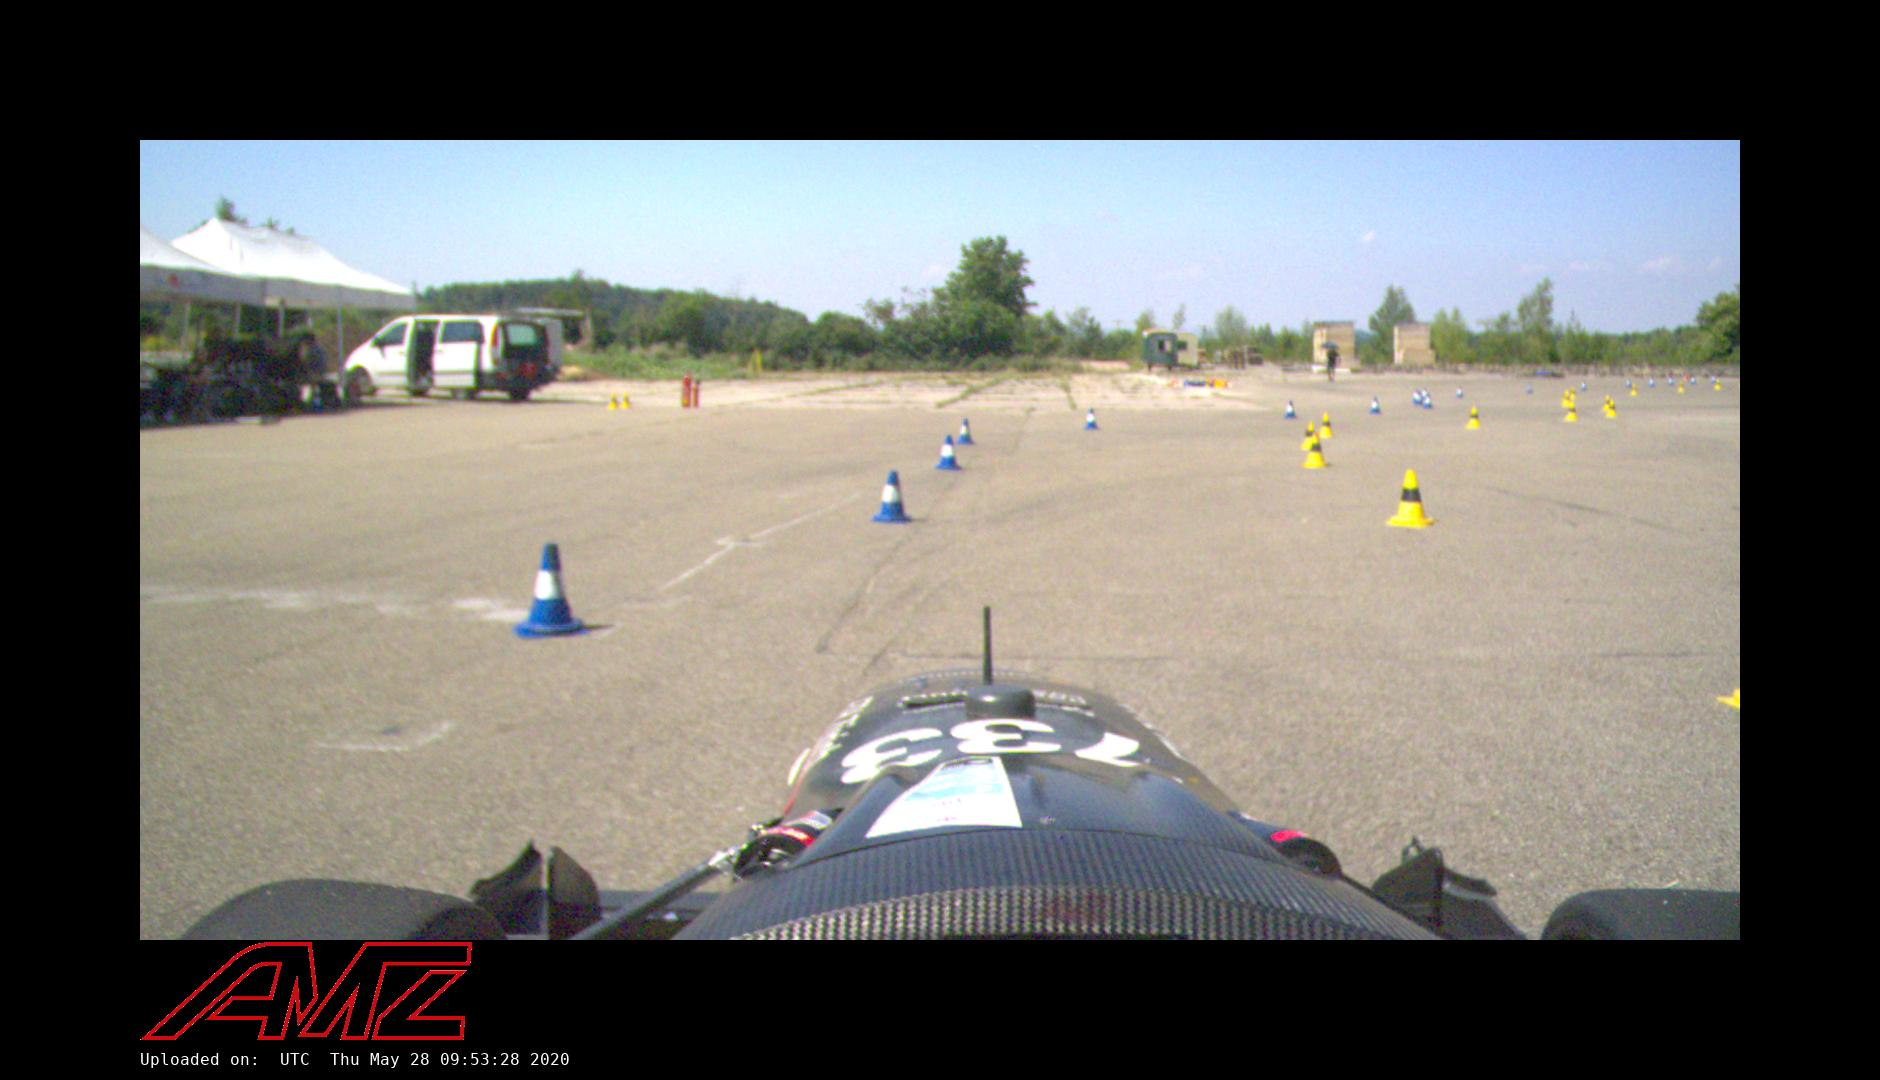blue_cone: (507, 543, 589, 637), (874, 469, 909, 524), (937, 435, 962, 472), (955, 419, 974, 444), (1083, 408, 1099, 430), (1283, 399, 1296, 419), (1369, 397, 1382, 413), (1422, 393, 1433, 410), (1413, 390, 1422, 404), (1579, 380, 1588, 391), (1456, 386, 1464, 398), (1648, 377, 1655, 388)
yellow_cone: (1384, 468, 1437, 528), (1303, 433, 1330, 468), (1302, 421, 1320, 450), (1320, 411, 1335, 437), (1466, 406, 1482, 429), (1564, 400, 1578, 422), (606, 391, 618, 412), (1605, 399, 1618, 417), (620, 391, 631, 410), (1560, 389, 1571, 407), (1602, 393, 1611, 410), (1630, 382, 1637, 397), (1677, 381, 1685, 393), (1570, 388, 1577, 399)
